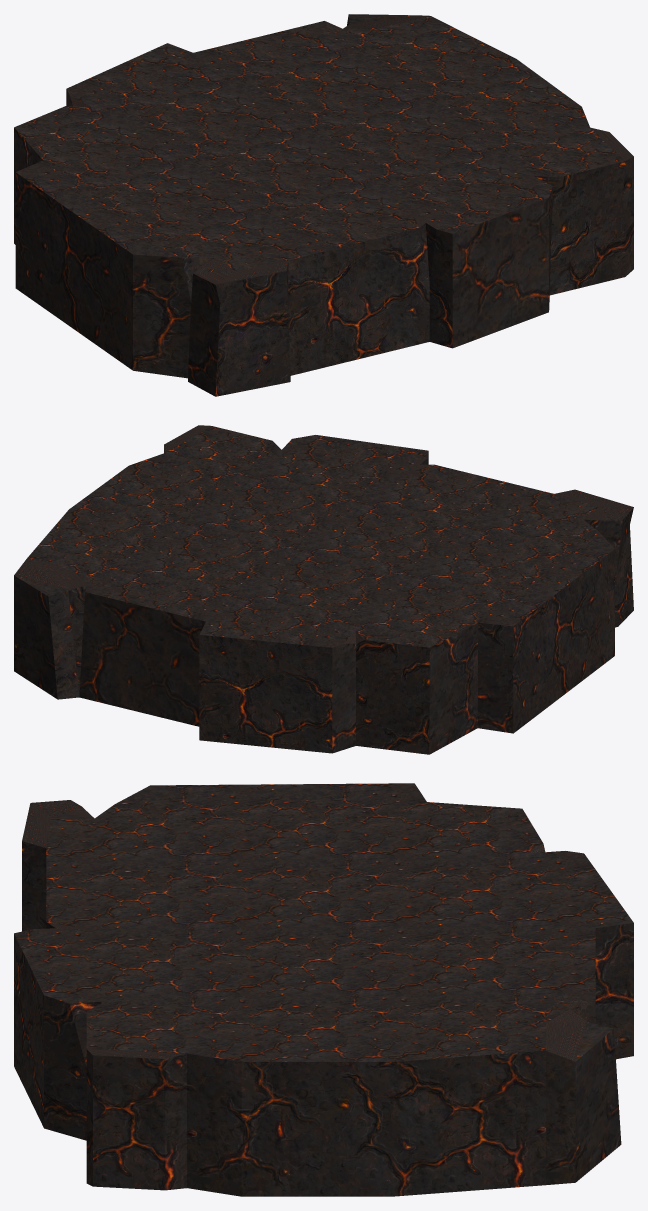
File: BigRock_vulcanic_lava.fbx
3 renders of one model, top to bottom at view 1: azimuth 30°, elevation 25°; view 2: azimuth 150°, elevation 25°; view 3: azimuth 270°, elevation 25°, orthographic. The views are drawn at different scales.
Visible parts, largest first — view 1: RockFlat_01; view 2: RockFlat_01; view 3: RockFlat_01.
Part boxes in pixels (x1,y1,x2,y2): RockFlat_01: (14, 14, 633, 396); RockFlat_01: (14, 425, 633, 754); RockFlat_01: (14, 783, 633, 1196).
Size of the model in its own units: 9598 by 2167 by 9018.
